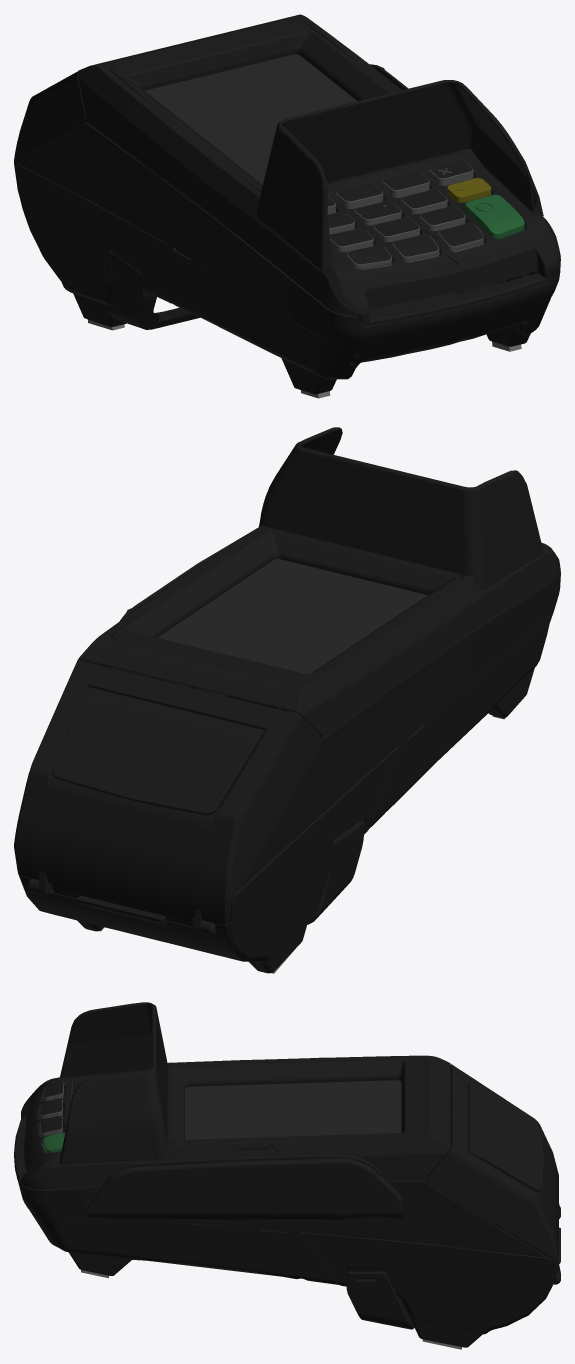
File: vega3000.glb
The picture shows the model from 3 angles, top to bottom: view 1: azimuth 30°, elevation 25°; view 2: azimuth 150°, elevation 25°; view 3: azimuth 270°, elevation 25°; orthographic projection. The views are drawn at different scales.
Visible parts, largest first — view 1: V3CT_TOP_20170314_1, RUIDE_CT_BTM_20160112_1, PS_PLASTIC_VER1_1, V3CT_SAMCOVER_20141224_1, RUBBERKEY_WATERPROFF_20170912_1 buttons, TOUTCH_1, 35_CT_CL_NP_NEW_SHAPE_NEW_1, V3CT_PAPERCOVER_20161128_1, V3CT_CABLE_REGULATOR_NEW_1; view 2: V3CT_PAPERCOVER_20161128_1, RUIDE_CT_BTM_20160112_1, PS_PLASTIC_VER1_1, V3CT_TOP_20170314_1, V3CT_PULL_VER2_1, TOUTCH_1, 35_CT_CL_NP_NEW_SHAPE_NEW_1, V3CT_SAMCOVER_20141224_1, V3CT_CABLE_REGULATOR_NEW_1; view 3: RUIDE_CT_BTM_20160112_1, V3CT_TOP_20170314_1, PS_PLASTIC_VER1_1, V3CT_SAMCOVER_20141224_1, TOUTCH_1, V3CT_PAPERCOVER_20161128_1, 35_CT_CL_NP_NEW_SHAPE_NEW_1, V3CT_PULL_VER2_1, V3CT_CABLE_REGULATOR_NEW_1, RUBBERKEY_WATERPROFF_20170912_1 buttons.
Boxes of the visible parts, left/top/right/bottom form: V3CT_TOP_20170314_1: left=78, top=14, right=560, bottom=325; RUIDE_CT_BTM_20160112_1: left=15, top=64, right=560, bottom=345; PS_PLASTIC_VER1_1: left=256, top=80, right=543, bottom=270; V3CT_SAMCOVER_20141224_1: left=148, top=243, right=550, bottom=394; RUBBERKEY_WATERPROFF_20170912_1 buttons: left=327, top=160, right=524, bottom=269; TOUTCH_1: left=145, top=54, right=356, bottom=184; 35_CT_CL_NP_NEW_SHAPE_NEW_1: left=111, top=21, right=459, bottom=191; V3CT_PAPERCOVER_20161128_1: left=14, top=71, right=86, bottom=185; V3CT_CABLE_REGULATOR_NEW_1: left=109, top=251, right=200, bottom=329; V3CT_PAPERCOVER_20161128_1: left=14, top=659, right=321, bottom=932; RUIDE_CT_BTM_20160112_1: left=19, top=527, right=560, bottom=973; PS_PLASTIC_VER1_1: left=258, top=427, right=543, bottom=589; V3CT_TOP_20170314_1: left=78, top=525, right=560, bottom=738; V3CT_PULL_VER2_1: left=52, top=662, right=289, bottom=815; TOUTCH_1: left=157, top=559, right=427, bottom=673; 35_CT_CL_NP_NEW_SHAPE_NEW_1: left=111, top=529, right=462, bottom=682; V3CT_SAMCOVER_20141224_1: left=369, top=613, right=553, bottom=828; V3CT_CABLE_REGULATOR_NEW_1: left=307, top=820, right=364, bottom=924; RUIDE_CT_BTM_20160112_1: left=15, top=1130, right=560, bottom=1347; V3CT_TOP_20170314_1: left=14, top=1055, right=450, bottom=1190; PS_PLASTIC_VER1_1: left=59, top=1002, right=167, bottom=1164; V3CT_SAMCOVER_20141224_1: left=29, top=1210, right=339, bottom=1284; TOUTCH_1: left=185, top=1080, right=401, bottom=1139; V3CT_PAPERCOVER_20161128_1: left=426, top=1064, right=560, bottom=1278; 35_CT_CL_NP_NEW_SHAPE_NEW_1: left=167, top=1058, right=426, bottom=1142; V3CT_PULL_VER2_1: left=450, top=1072, right=544, bottom=1191; V3CT_CABLE_REGULATOR_NEW_1: left=346, top=1271, right=414, bottom=1329; RUBBERKEY_WATERPROFF_20170912_1 buttons: left=39, top=1078, right=92, bottom=1153.
Size of the model in its own units: 0.7844 by 1.03 by 1.87.
